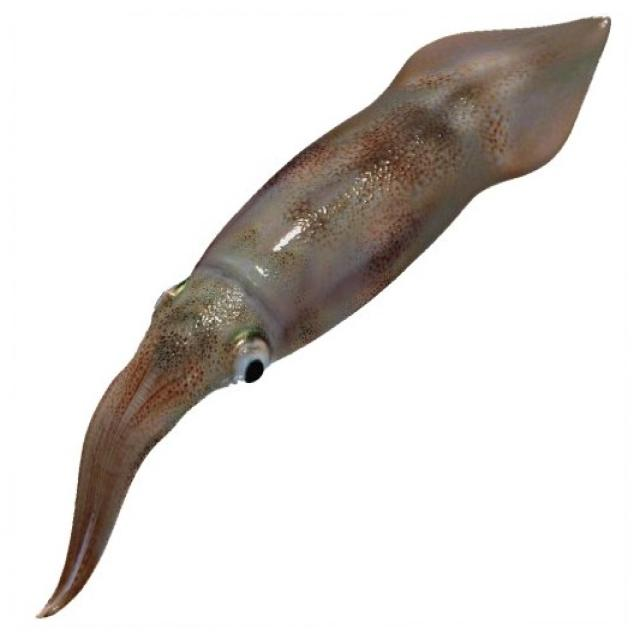SQUID: (36, 14, 615, 640)
